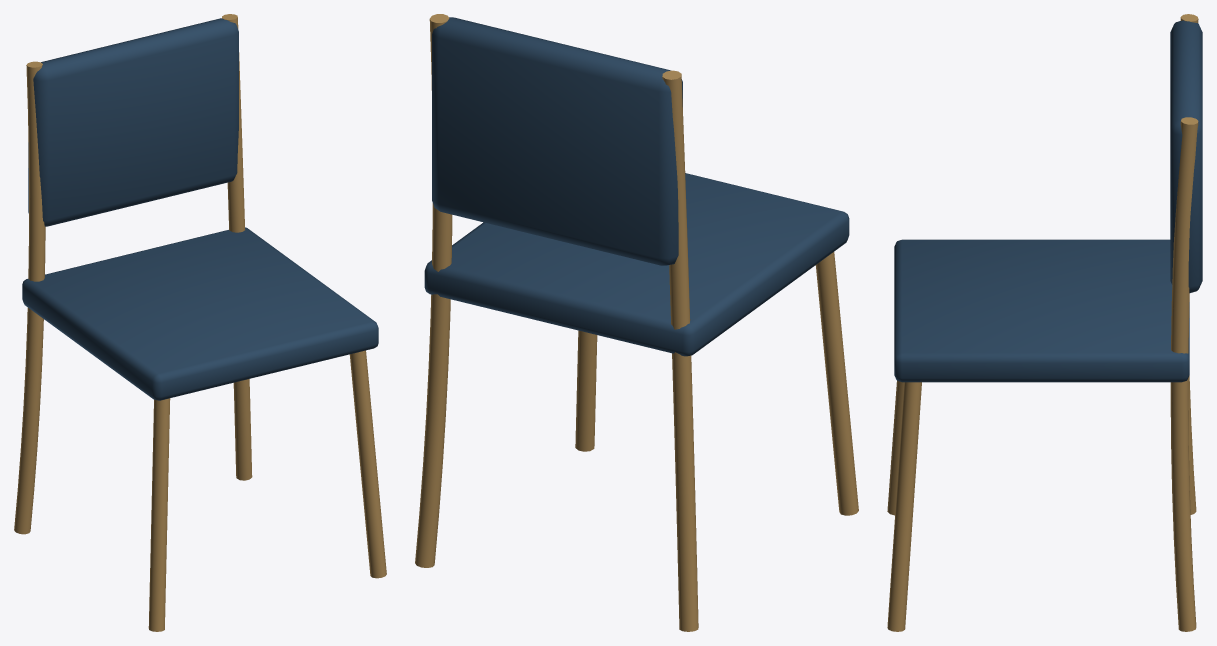
Rendered from i_chair_6.glb.
The picture shows the model from 3 angles, left to right: view 1: azimuth 30°, elevation 25°; view 2: azimuth 150°, elevation 25°; view 3: azimuth 270°, elevation 25°; orthographic projection. The views are drawn at different scales.
Parts seen in each view (by area): view 1: o.004, o.005, o.001, o.002, o, o.003; view 2: o.005, o.004, o.001, o.003, o, o.002; view 3: o.004, o.003, o.005, o.002, o, o.001.
Part boxes in pixels (bbox=[...]): o.004: bbox=[22, 227, 378, 400]; o.005: bbox=[28, 18, 238, 226]; o.001: bbox=[14, 61, 45, 534]; o.002: bbox=[349, 350, 386, 578]; o: bbox=[148, 398, 170, 631]; o.003: bbox=[222, 14, 252, 480]; o.005: bbox=[432, 17, 682, 265]; o.004: bbox=[424, 173, 849, 356]; o.001: bbox=[662, 70, 698, 631]; o.003: bbox=[415, 14, 452, 567]; o: bbox=[815, 252, 858, 515]; o.002: bbox=[575, 330, 597, 451]; o.004: bbox=[894, 239, 1189, 382]; o.003: bbox=[1170, 117, 1198, 631]; o.005: bbox=[1170, 20, 1202, 293]; o.002: bbox=[887, 382, 921, 631]; o: bbox=[887, 381, 904, 515]; o.001: bbox=[1180, 14, 1198, 514].
Size of the model in its own units: 0.4597 by 0.8621 by 0.4906.
